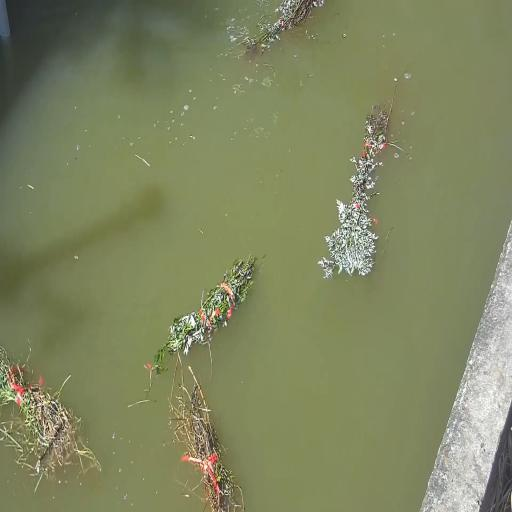twig: (316, 81, 398, 282), (0, 344, 103, 492), (168, 333, 244, 512), (152, 253, 258, 364), (238, 0, 326, 58)
